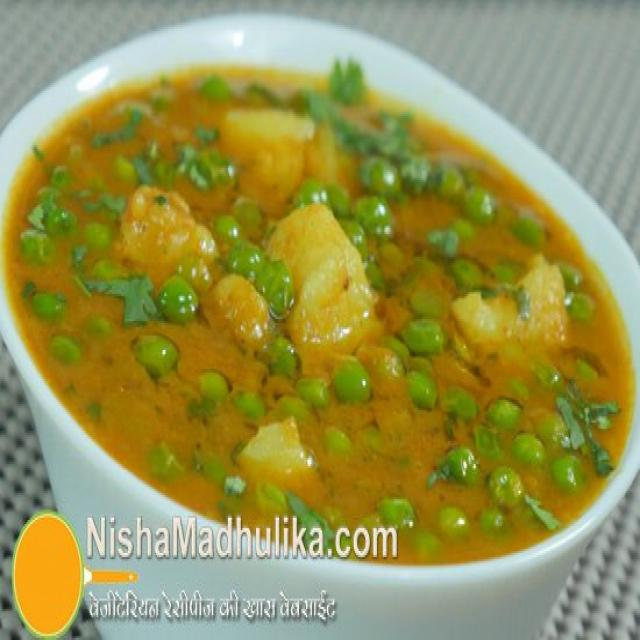Aloo Matar: (11, 24, 637, 564)
